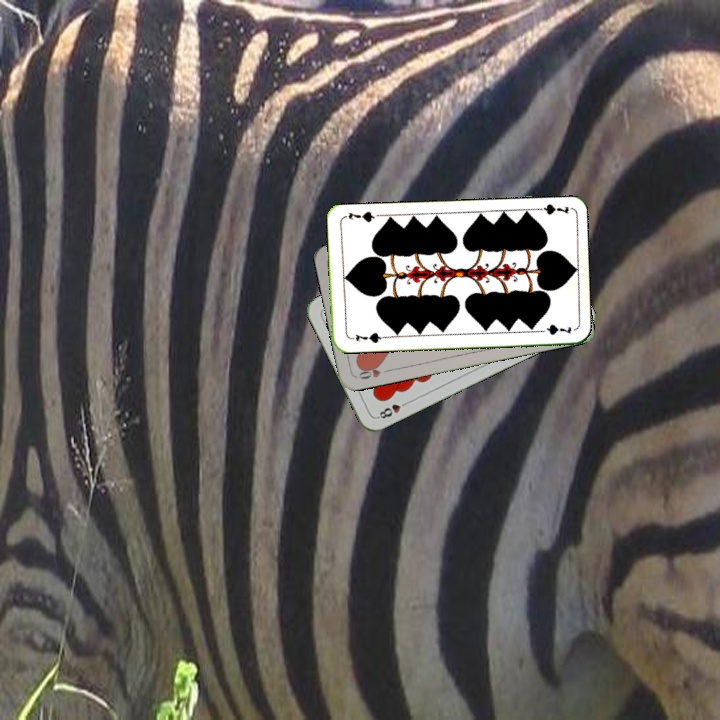G7: (530, 200, 571, 217), (346, 329, 386, 345)
H8: (373, 397, 411, 421)
HO: (353, 361, 394, 382)
